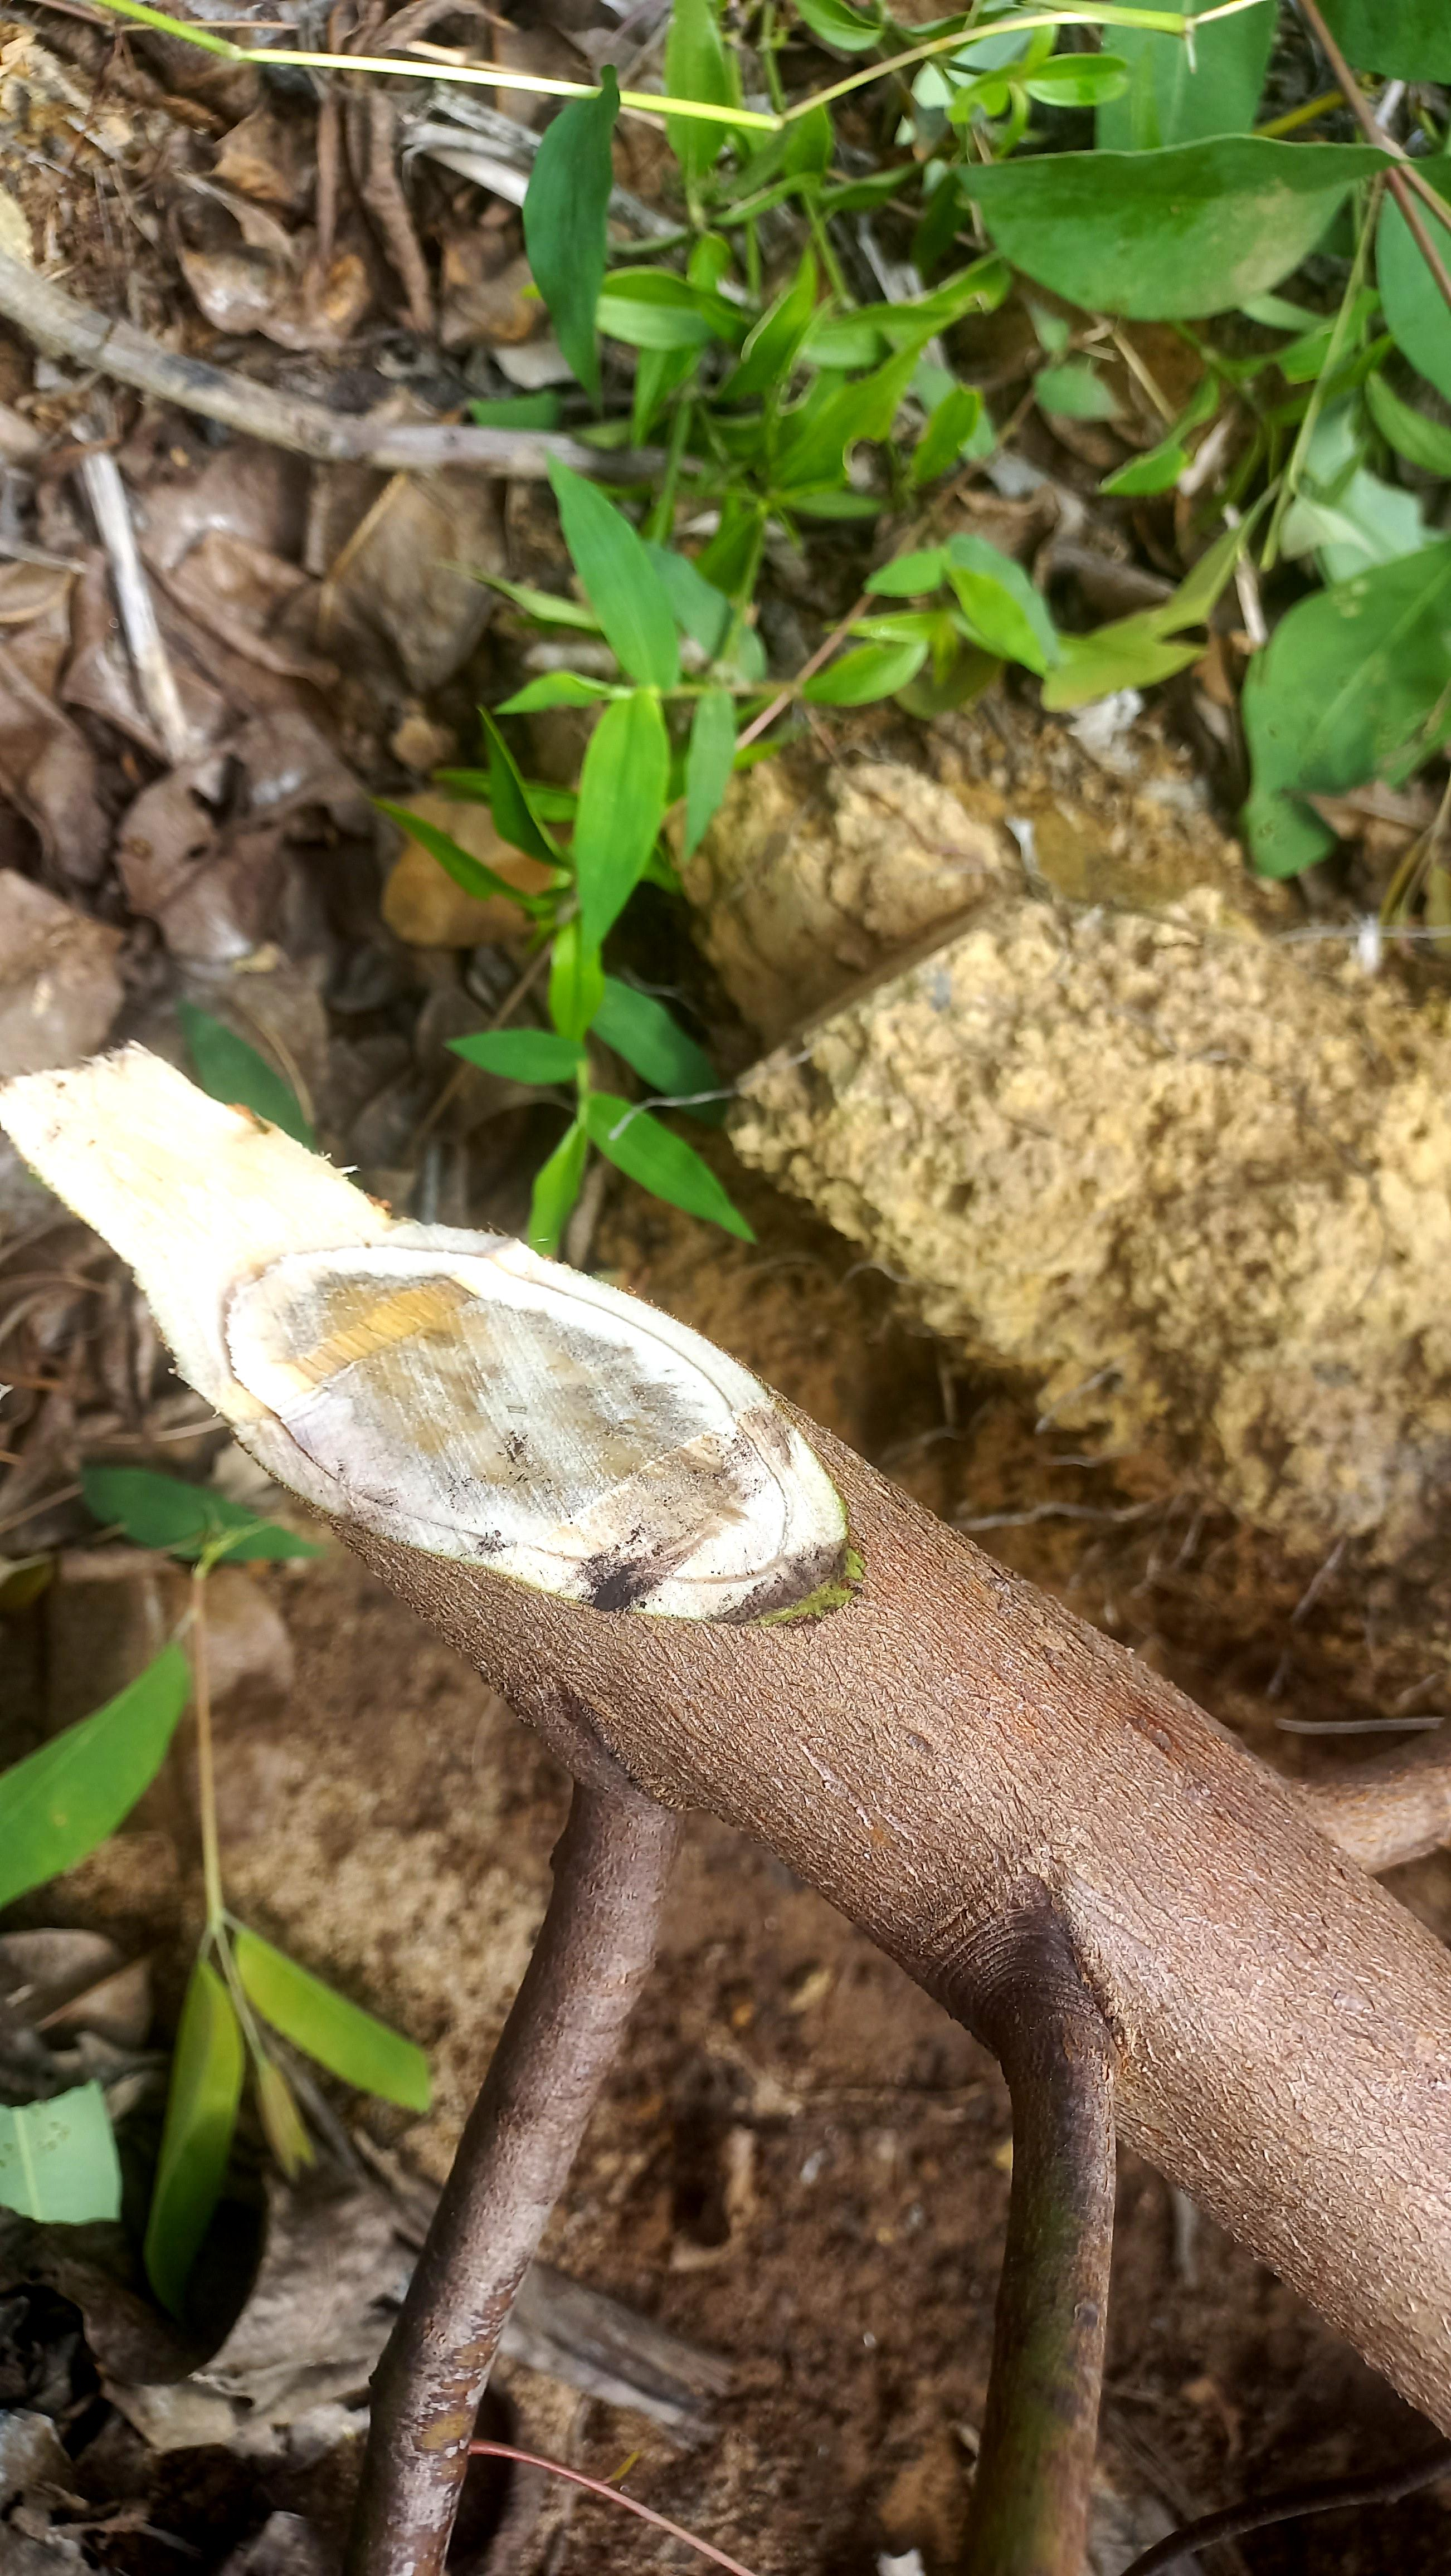Ralstonia: (391, 1364, 557, 1451), (533, 1470, 747, 1537), (589, 1399, 706, 1465), (281, 1281, 366, 1366), (421, 1463, 529, 1518), (566, 1336, 655, 1394), (480, 1295, 550, 1353), (375, 1269, 442, 1295)
